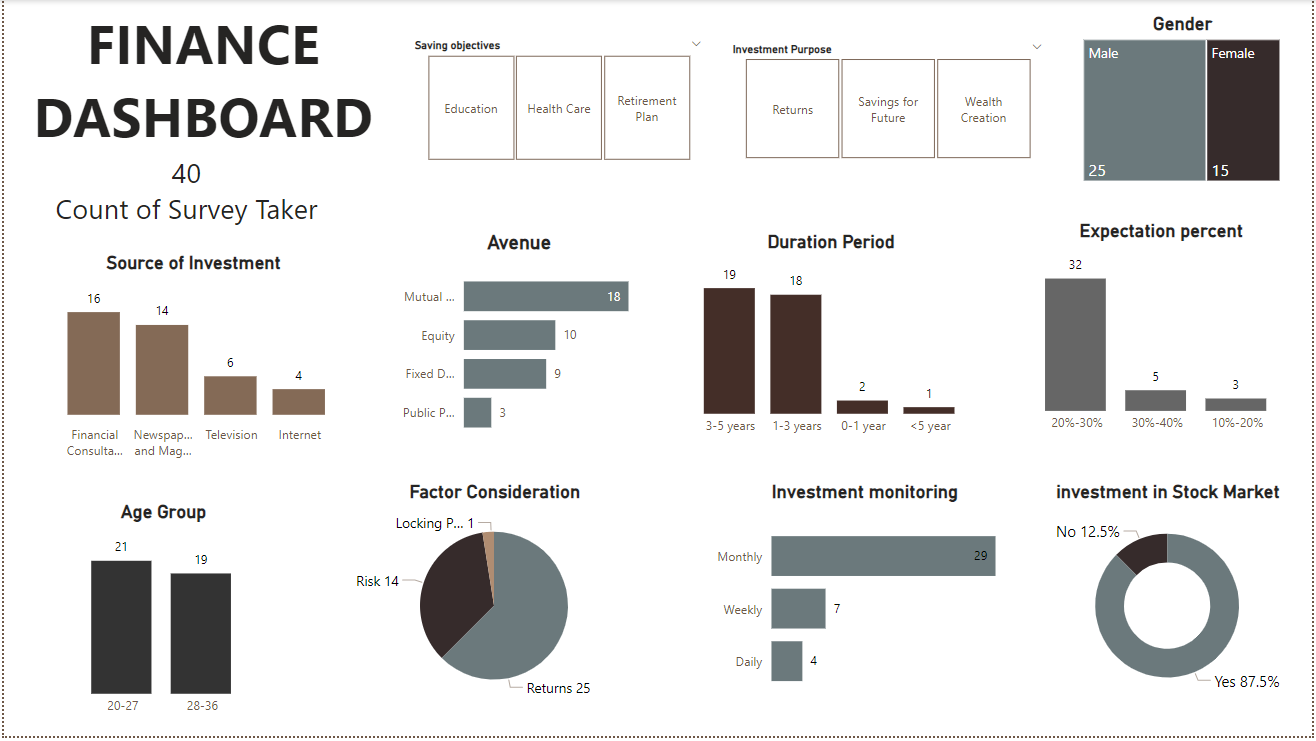

Layout of this report page (visuals, bound fields, positions):
{"tool":"powerbi","page":{"name":"Page 1","canvas":[1280,720],"ordinal":0},"visuals":[{"type":"treemap","title":"Gender","fields":{"Values":["CountNonNull(Finance_data (2).gender)"],"Group":["Finance_data (2).gender"]},"box":[1048.4,9.6,208.6,175.6],"z":0},{"type":"columnChart","title":"Age Group","fields":{"Category":["Finance_data (2).Age Group"],"Y":["CountNonNull(Finance_data (2).Age Group)"]},"box":[7.3,486.7,295.9,225],"z":1000},{"type":"donutChart","title":"investment in Stock Market","fields":{"Category":["Finance_data (2).Stock_Marktet"],"Y":["CountNonNull(Finance_data (2).Stock_Marktet)"]},"box":[995.4,467.1,284.9,229.9],"z":2000},{"type":"clusteredColumnChart","title":"Duration Period","fields":{"Category":["Finance_data (2).Duration"],"Y":["CountNonNull(Finance_data (2).Duration)"]},"box":[650.5,222.6,315.5,215.2],"z":3000},{"type":"slicer","fields":{"Values":["Finance_data (2).Purpose"]},"box":[697,33,333.8,132.1],"z":4000},{"type":"columnChart","title":"Source of Investment","fields":{"Category":["Finance_data (2).Source"],"Y":["CountNonNull(Finance_data (2).Source)"]},"box":[18.3,243.3,332.6,216.4],"z":5000},{"type":"clusteredColumnChart","title":"Expectation percent","fields":{"Category":["Finance_data (2).Expect"],"Y":["CountNonNull(Finance_data (2).Expect)"]},"box":[975.8,209.1,304.5,228.7],"z":6000},{"type":"slicer","fields":{"Values":["Finance_data (2).What are your savings objectives?"]},"box":[388.3,32.9,306,130.4],"z":7000},{"type":"barChart","title":"Investment monitoring","fields":{"Category":["Finance_data (2).Invest_Monitor"],"Y":["CountNonNull(Finance_data (2).Invest_Monitor)"]},"box":[684.8,467.1,313,229.9],"z":8000},{"type":"pieChart","title":"Factor Consideration","fields":{"Category":["Finance_data (2).Factor"],"Y":["CountNonNull(Finance_data (2).Factor)"]},"box":[317.9,467.1,322.8,229.9],"z":9000},{"type":"textbox","box":[18.3,0,353.4,176.1],"z":10000},{"type":"barChart","title":"Avenue","fields":{"Category":["Finance_data (2).Avenue"],"Y":["CountNonNull(Finance_data (2).Avenue)"]},"box":[366.8,222.6,272.7,220.1],"z":11000},{"type":"textbox","box":[39.1,145.5,278.8,88],"z":11001}]}

Visuals, with their boxes in screenshot pixels (x1, y1, x2, y2), scaled from the page's 1280x720 canvas onto the 1316x741 screenshot:
"Gender" treemap: x1=1078, y1=10, x2=1292, y2=191
"Age Group" columnChart: x1=8, y1=501, x2=312, y2=732
"investment in Stock Market" donutChart: x1=1023, y1=481, x2=1315, y2=717
"Duration Period" clusteredColumnChart: x1=669, y1=229, x2=993, y2=451
slicer - Finance_data (2).Purpose: x1=717, y1=34, x2=1060, y2=170
"Source of Investment" columnChart: x1=19, y1=250, x2=361, y2=473
"Expectation percent" clusteredColumnChart: x1=1003, y1=215, x2=1315, y2=451
slicer - Finance_data (2).What are your savings objectives?: x1=399, y1=34, x2=714, y2=168
"Investment monitoring" barChart: x1=704, y1=481, x2=1026, y2=717
"Factor Consideration" pieChart: x1=327, y1=481, x2=659, y2=717
textbox: x1=19, y1=0, x2=382, y2=181
"Avenue" barChart: x1=377, y1=229, x2=657, y2=456
textbox: x1=40, y1=150, x2=327, y2=240
